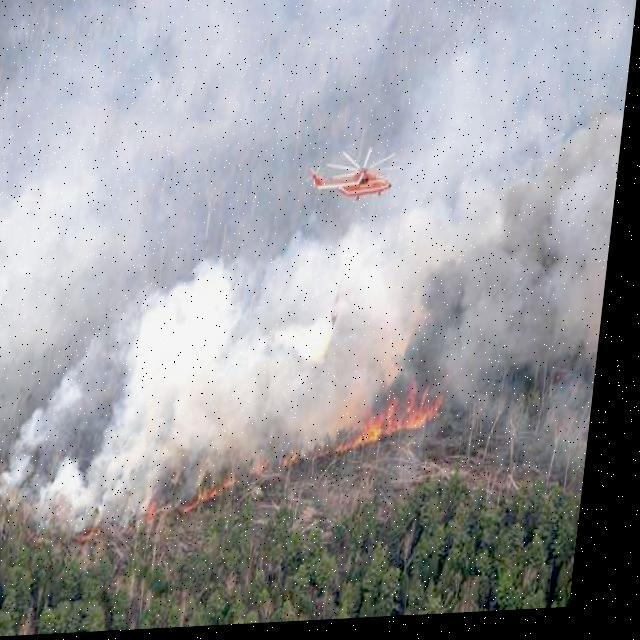Fire: (155, 386, 463, 524), (84, 520, 117, 546)
